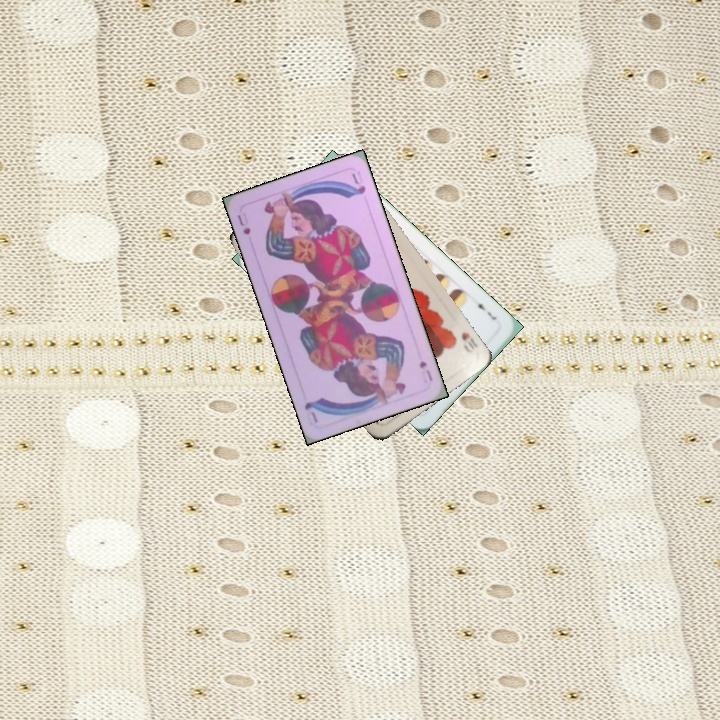E7: (472, 296, 499, 323)
H10: (457, 328, 480, 356)
SU: (233, 208, 253, 237), (415, 357, 435, 384)
